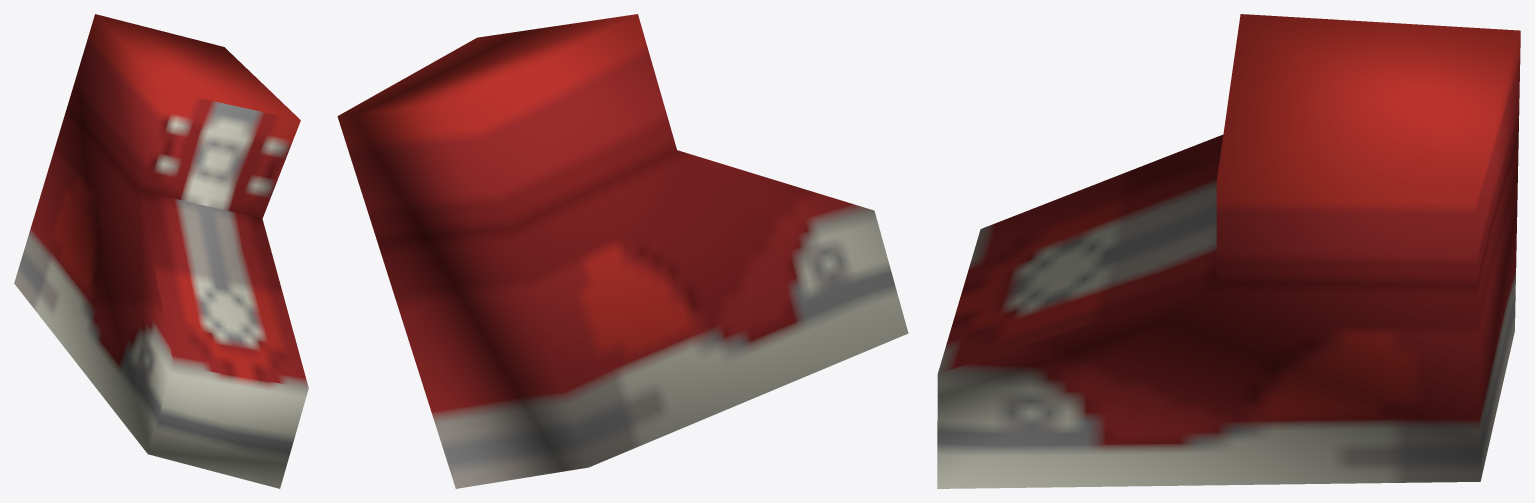
The model's file is Roll_RightFoot.obj.
3 renders of one model, left to right at view 1: azimuth 30°, elevation 25°; view 2: azimuth 150°, elevation 25°; view 3: azimuth 270°, elevation 25°, orthographic. The views are drawn at different scales.
Visible parts, largest first — view 1: RightFoot_Head.004; view 2: RightFoot_Head.004; view 3: RightFoot_Head.004.
Boxes of the visible parts, x1,y1,x2,y2 form: RightFoot_Head.004: (14,14,308,488); RightFoot_Head.004: (337,14,908,488); RightFoot_Head.004: (937,14,1520,488).
Bounding box in the file's own units: 0.8889 × 1.12 × 1.26.
Materials: 1 (1 with a texture image).
